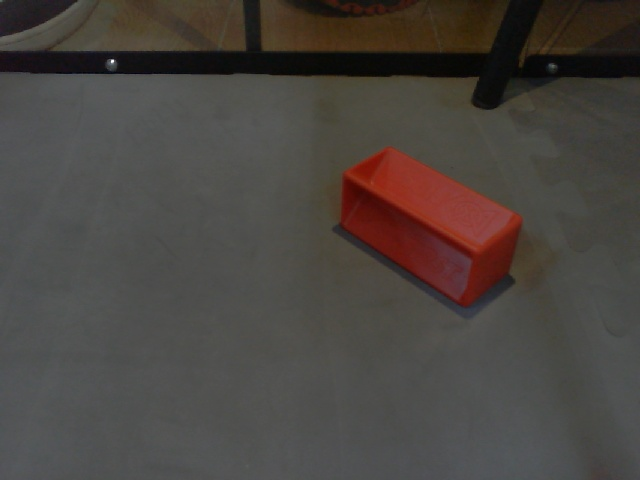RedSample: (339, 144, 523, 305)
